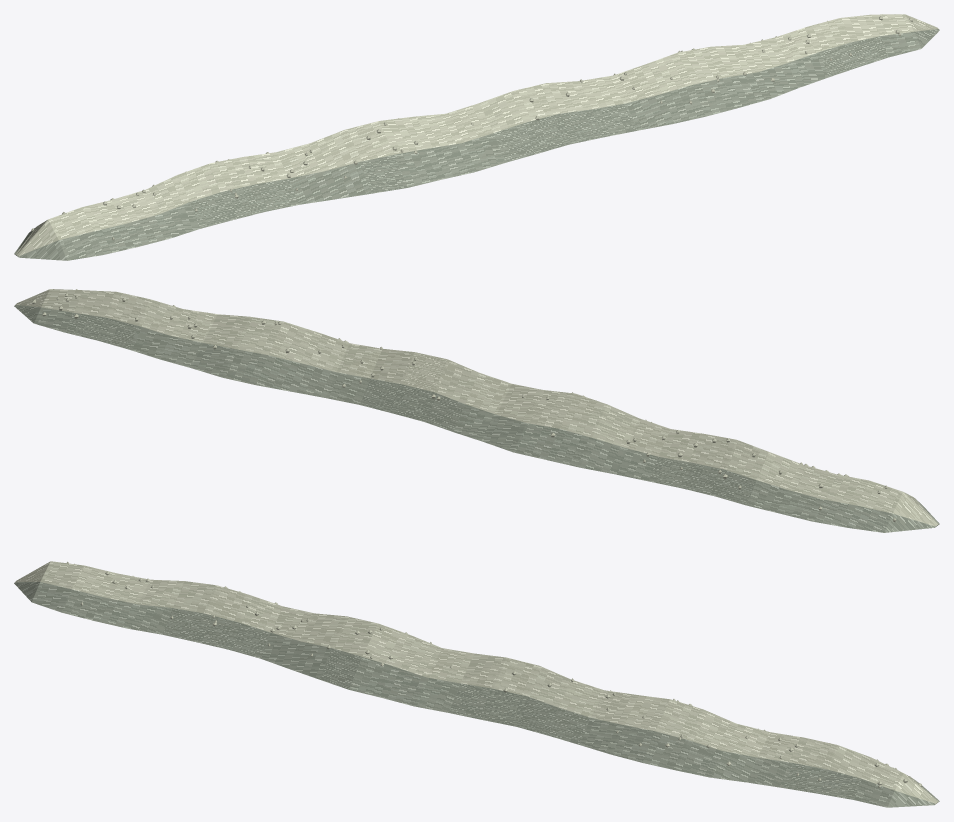
File: blender_salt_1_deployed.glb
The picture shows the model from 3 angles, top to bottom: view 1: azimuth 30°, elevation 25°; view 2: azimuth 150°, elevation 25°; view 3: azimuth 330°, elevation 25°; orthographic projection.
Parts seen in each view (by area): view 1: blender_salt_1_deployed; view 2: blender_salt_1_deployed; view 3: blender_salt_1_deployed.
Part boxes in pixels (box(x1,y1,x2,y2)): blender_salt_1_deployed: box(14, 14, 939, 260); blender_salt_1_deployed: box(14, 289, 939, 532); blender_salt_1_deployed: box(14, 561, 939, 807).
Size of the model in its own units: 1 by 0.0472 by 0.1137.
2 materials, 2 textured.
